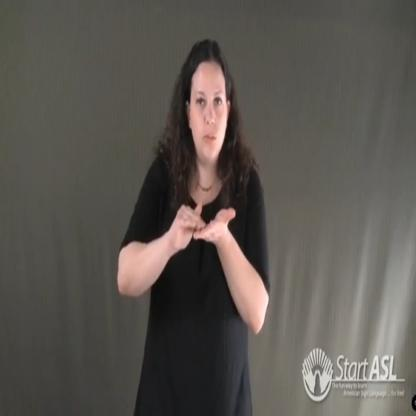ExcuseMe: (172, 188, 241, 259)
